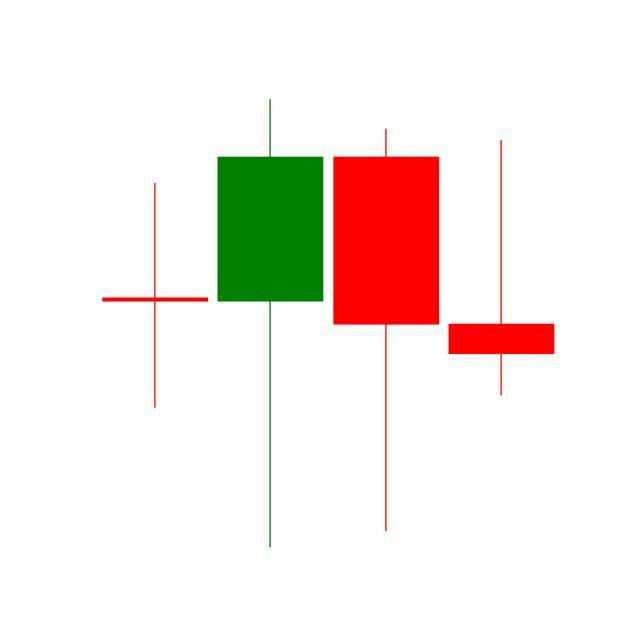Spinning Top: (444, 139, 560, 400)
